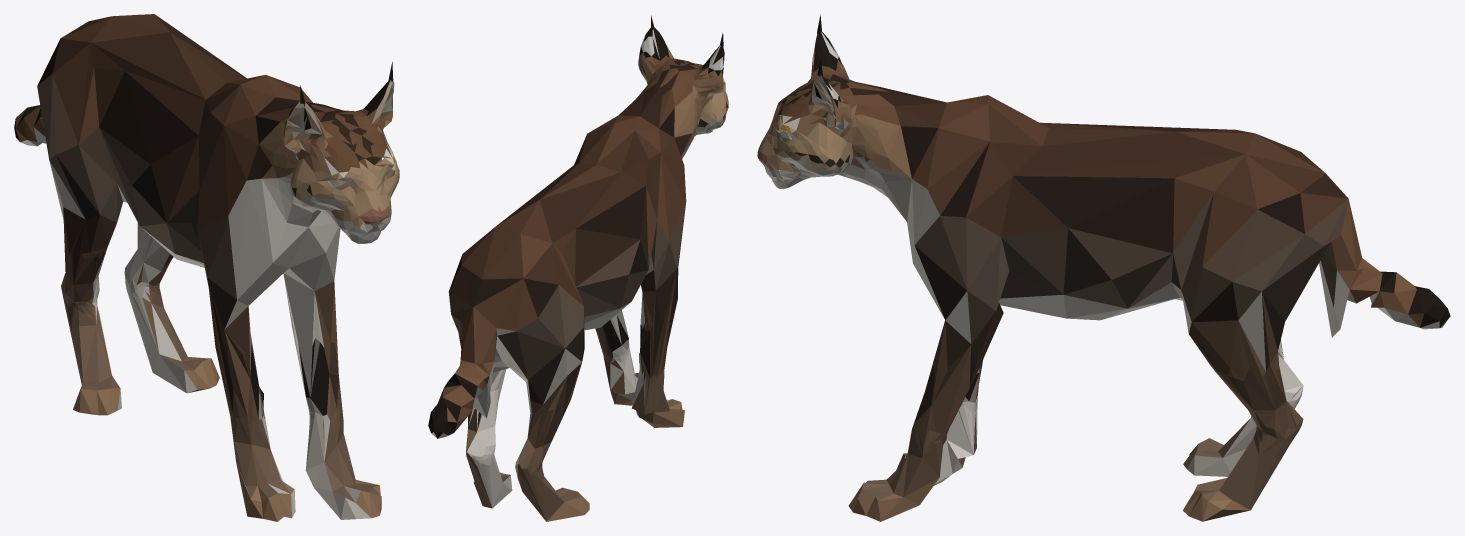
File: bobcat.glb
3 renders of one model, left to right at view 1: azimuth 30°, elevation 25°; view 2: azimuth 150°, elevation 25°; view 3: azimuth 270°, elevation 25°, orthographic. The views are drawn at different scales.
Visible parts, largest first — view 1: lod0; view 2: lod0; view 3: lod0.
Boxes of the visible parts, bbox=[...] form: lod0: bbox=[14, 14, 399, 521]; lod0: bbox=[428, 15, 728, 521]; lod0: bbox=[757, 14, 1450, 521].
Size of what is drawn, in the model's own units: 0.2043 by 0.5851 by 0.8057.
